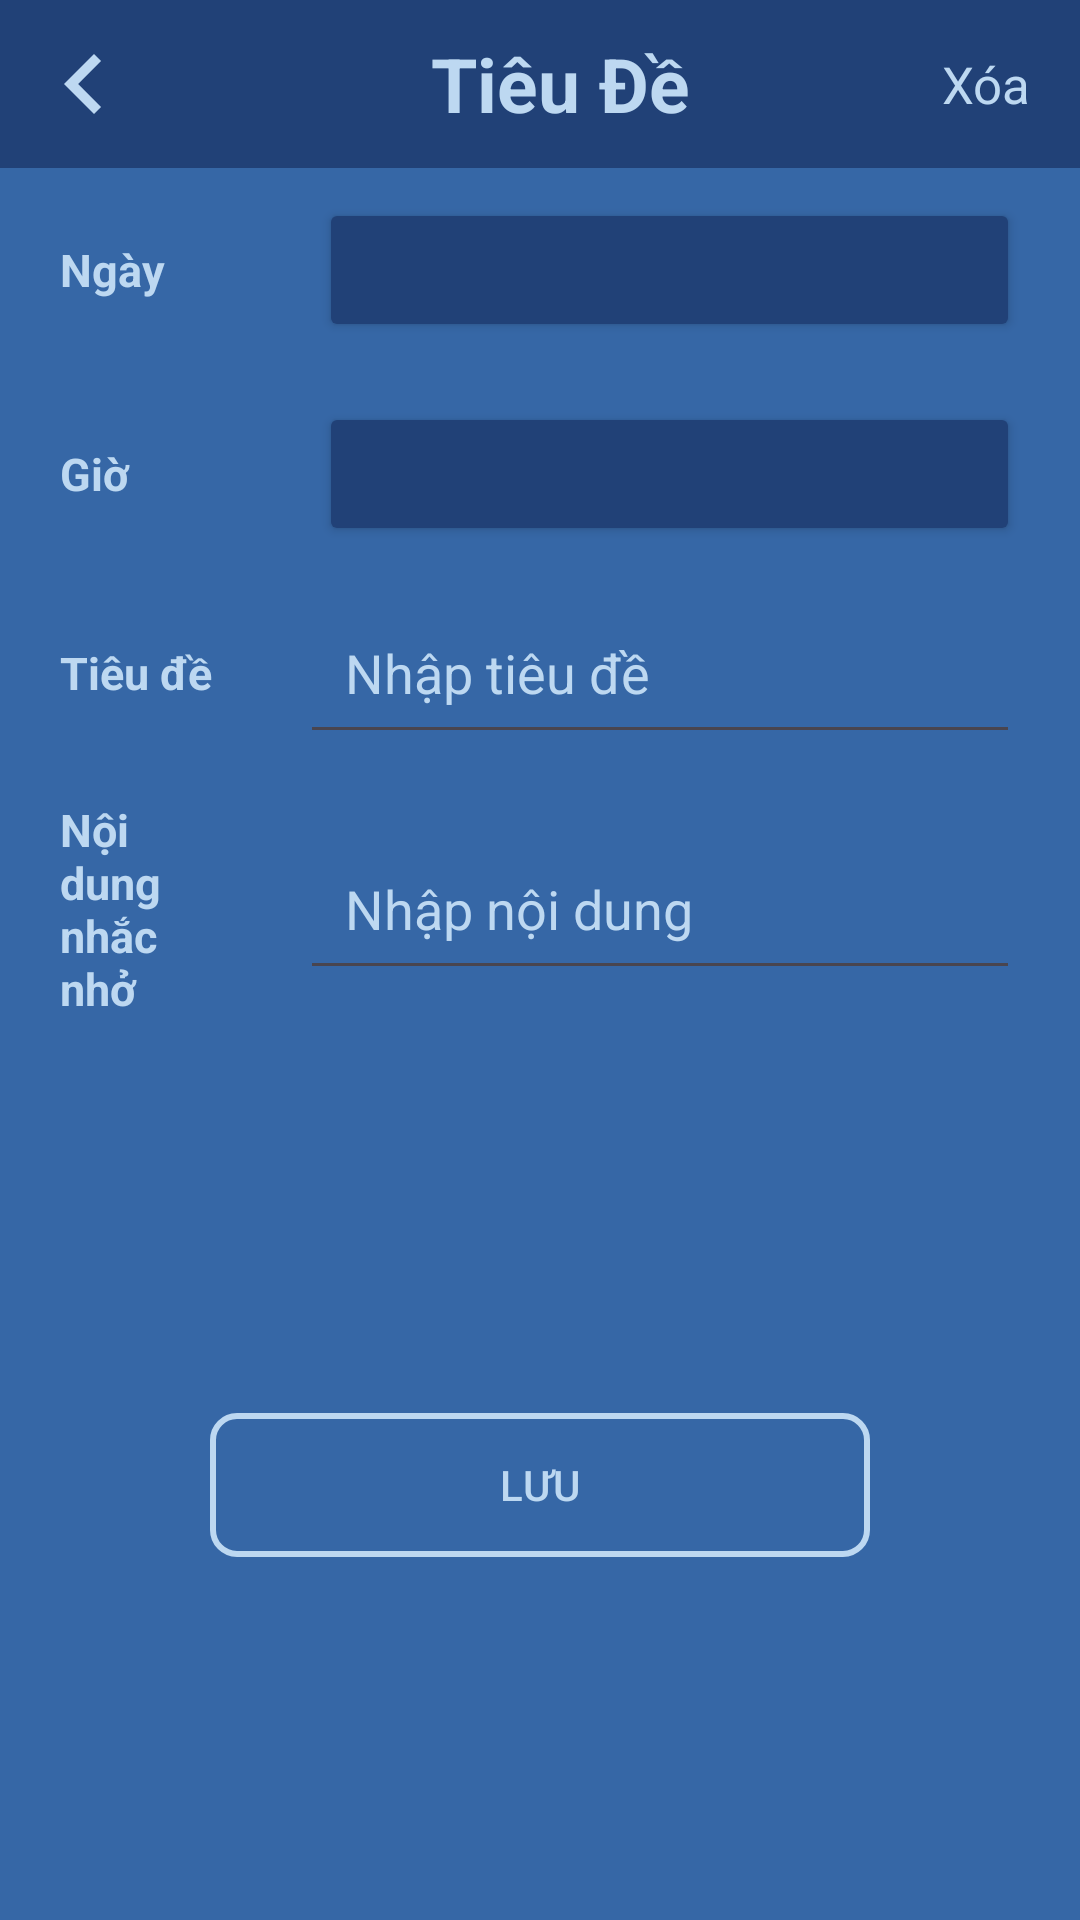

Where icons sit on this 1080*1920 app screen, as [x1,y1,x2,y2]:
before: [64,54,101,114]
